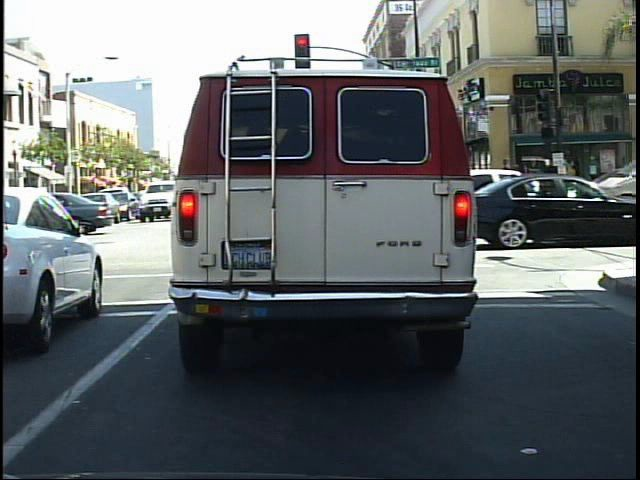person: (536, 154, 564, 215), (516, 157, 541, 213), (497, 155, 517, 212), (509, 161, 527, 212)
